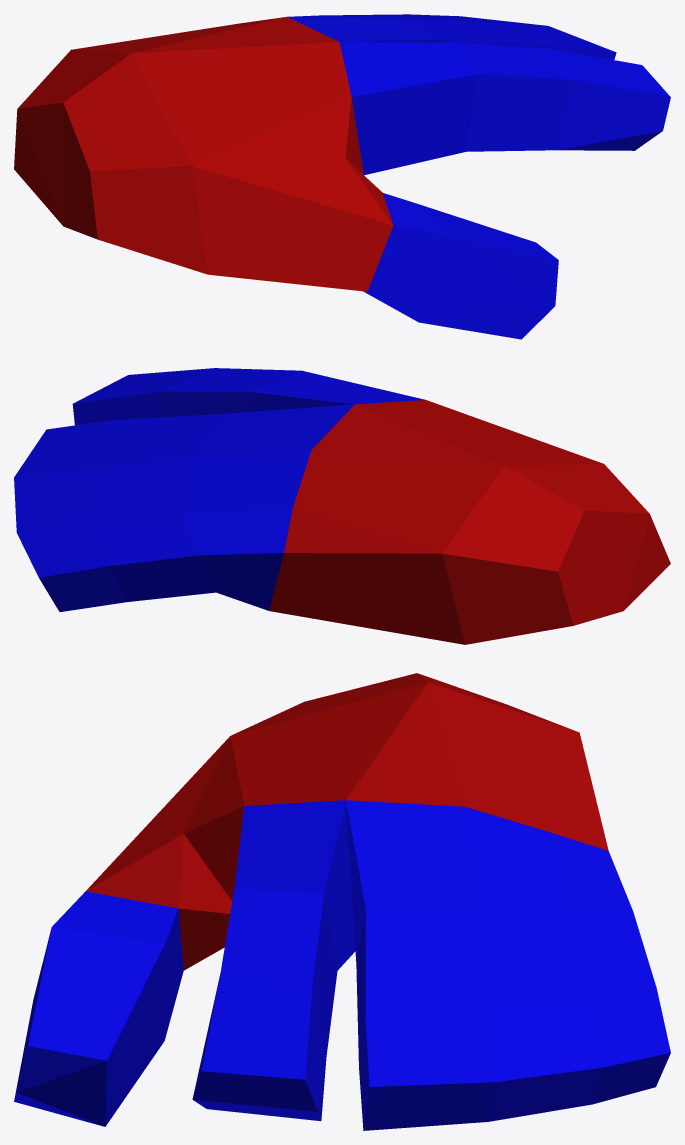
Rendered from Chr_HandLeft_Male_Static_07.fbx.
3 views of the same model, one above another, from view 1: azimuth 30°, elevation 25°; view 2: azimuth 150°, elevation 25°; view 3: azimuth 270°, elevation 25° (orthographic). The views are drawn at different scales.
Visible parts, largest first — view 1: Chr_HandLeft_Male_07; view 2: Chr_HandLeft_Male_07; view 3: Chr_HandLeft_Male_07.
Boxes of the visible parts, x1,y1,x2,y2 form: Chr_HandLeft_Male_07: (14,14,670,339); Chr_HandLeft_Male_07: (14,368,670,644); Chr_HandLeft_Male_07: (14,673,670,1130).
Size of the model in its own units: 23.35 by 9.52 by 18.8.
